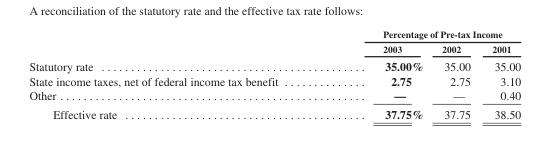table: (28, 28, 520, 120)
table column: (28, 28, 329, 120), (329, 28, 432, 120), (432, 28, 480, 120), (480, 28, 520, 120)
table column header: (28, 28, 520, 56)
table row: (28, 56, 520, 73), (28, 87, 520, 104), (28, 104, 520, 120), (28, 41, 520, 56), (28, 73, 520, 87), (28, 28, 520, 41)
table spanning cell: (329, 28, 520, 41)
